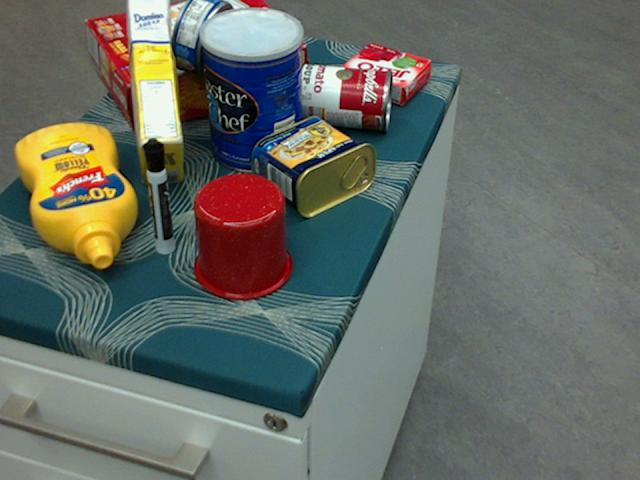cracker_box: (86, 0, 305, 133)
gelatin_box: (339, 44, 430, 103)
large_marker: (141, 138, 174, 253)
master_chef_can: (199, 6, 304, 173)
mug: (192, 171, 292, 299)
mustard_bottle: (14, 123, 136, 267)
potted_meat_can: (250, 113, 376, 218)
sugar_box: (127, 0, 184, 183)
tomato_soup_can: (294, 62, 393, 130)
tuna_fish_can: (169, 0, 235, 76)
